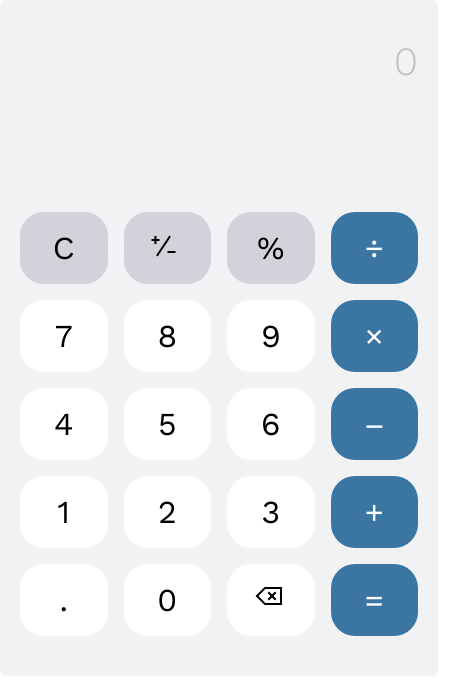
Test: Calculator Component › 3 performs multiplication correctly
Click the button "4" at coordinates (64, 424), box [20,388,108,460]
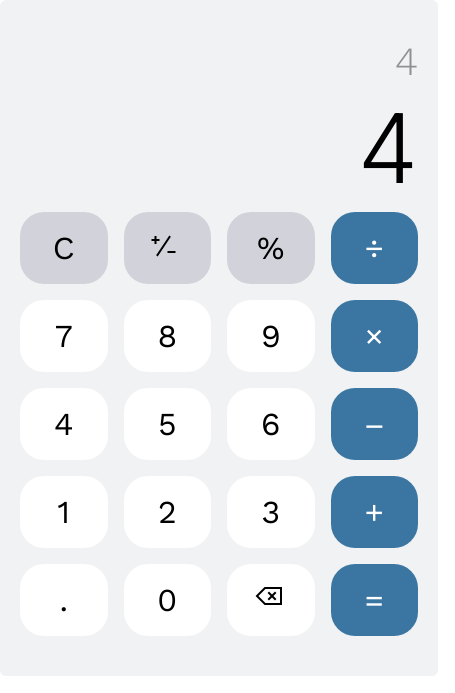
Click the button "×" at coordinates (374, 336), box [330,300,418,372]
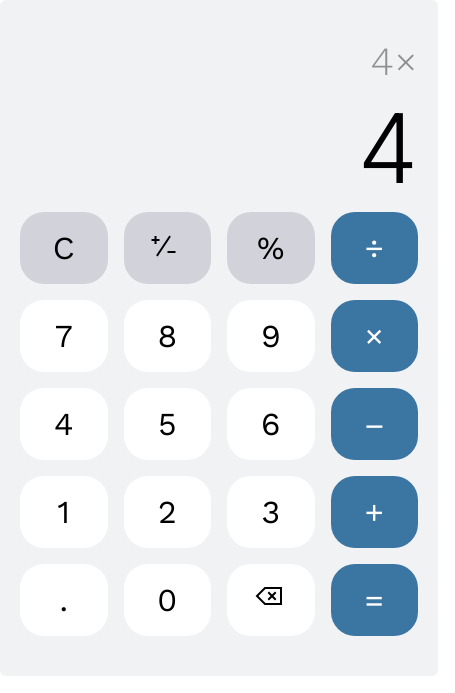
Click the button "3" at coordinates (271, 512), box [227,476,314,548]
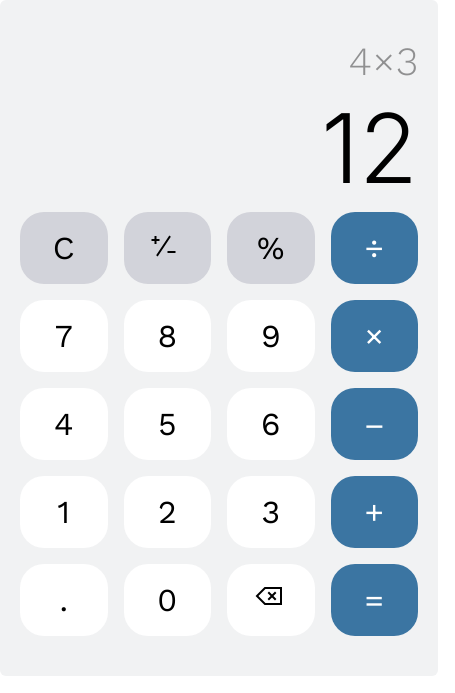
Click the button "=" at coordinates (374, 600), box [330,564,418,636]
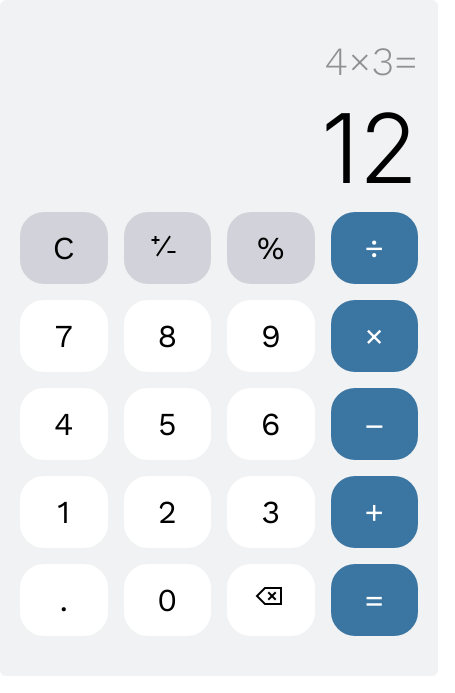
Expected: the text "12" is shown, [321,90,418,206]
Expected: the field showing "4×3=" is shown, [20,40,418,84]
